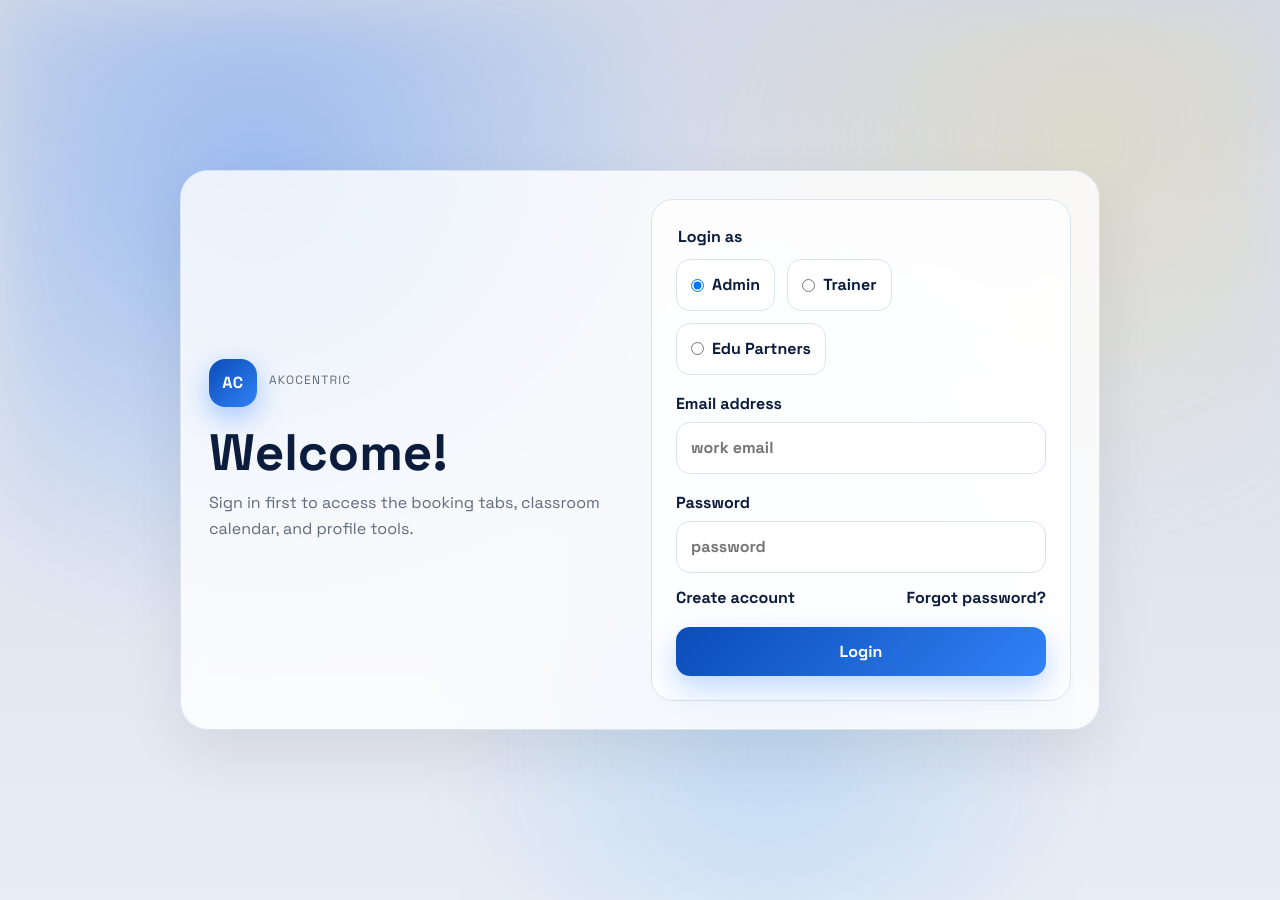
Scenario: requires login before showing tabs and reveals them after login
Check: the heading "Welcome!" is shown, box 209,420 -> 448,485
Check: the radio button labelled "Admin" is checked, box 691,279 -> 704,292
Type "alex.rivers@example.com" into the field labelled "Email address" at (861, 448), box 676,422 -> 1046,474
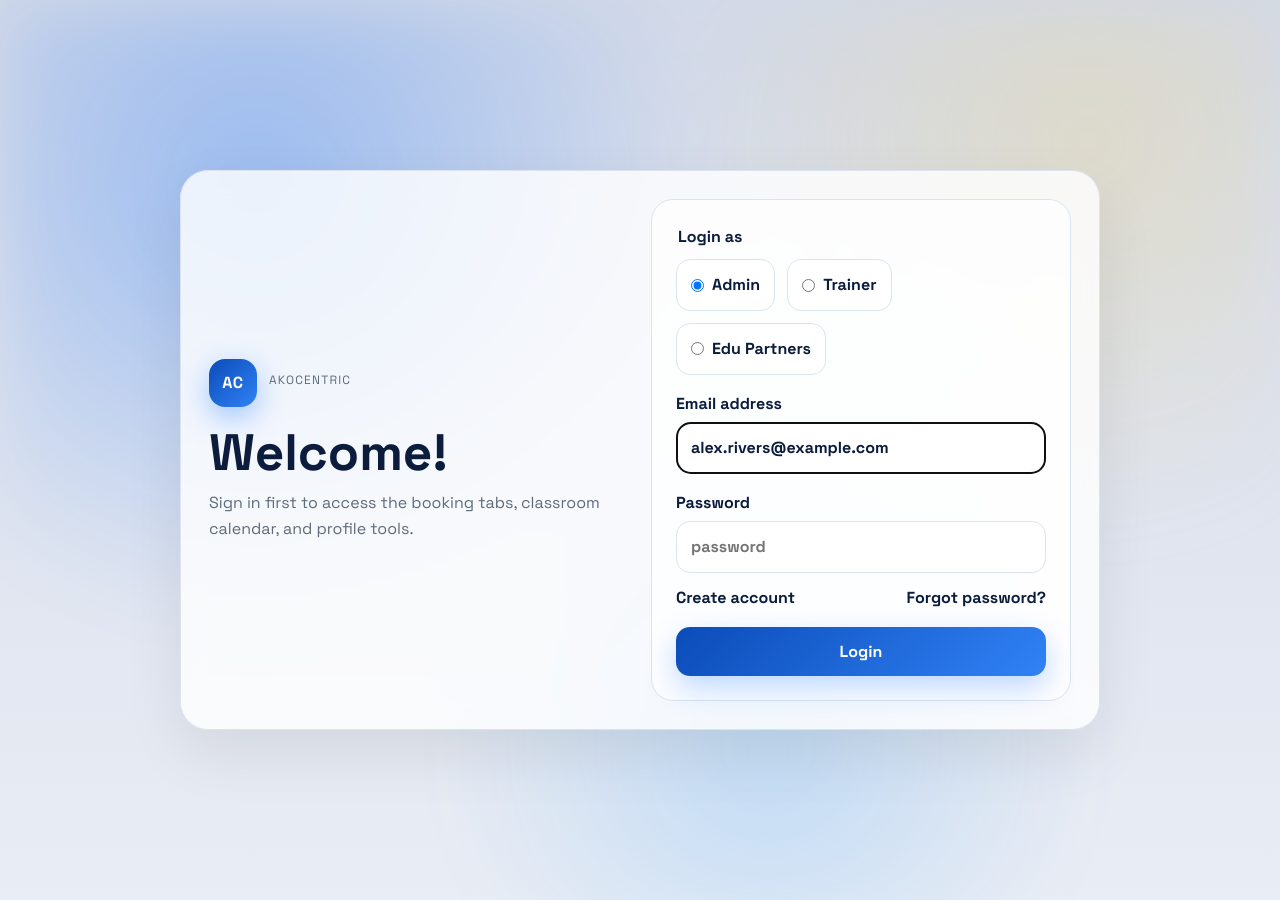
Type "password123" into the password field labelled "Password" at (861, 547), box 676,521 -> 1046,573
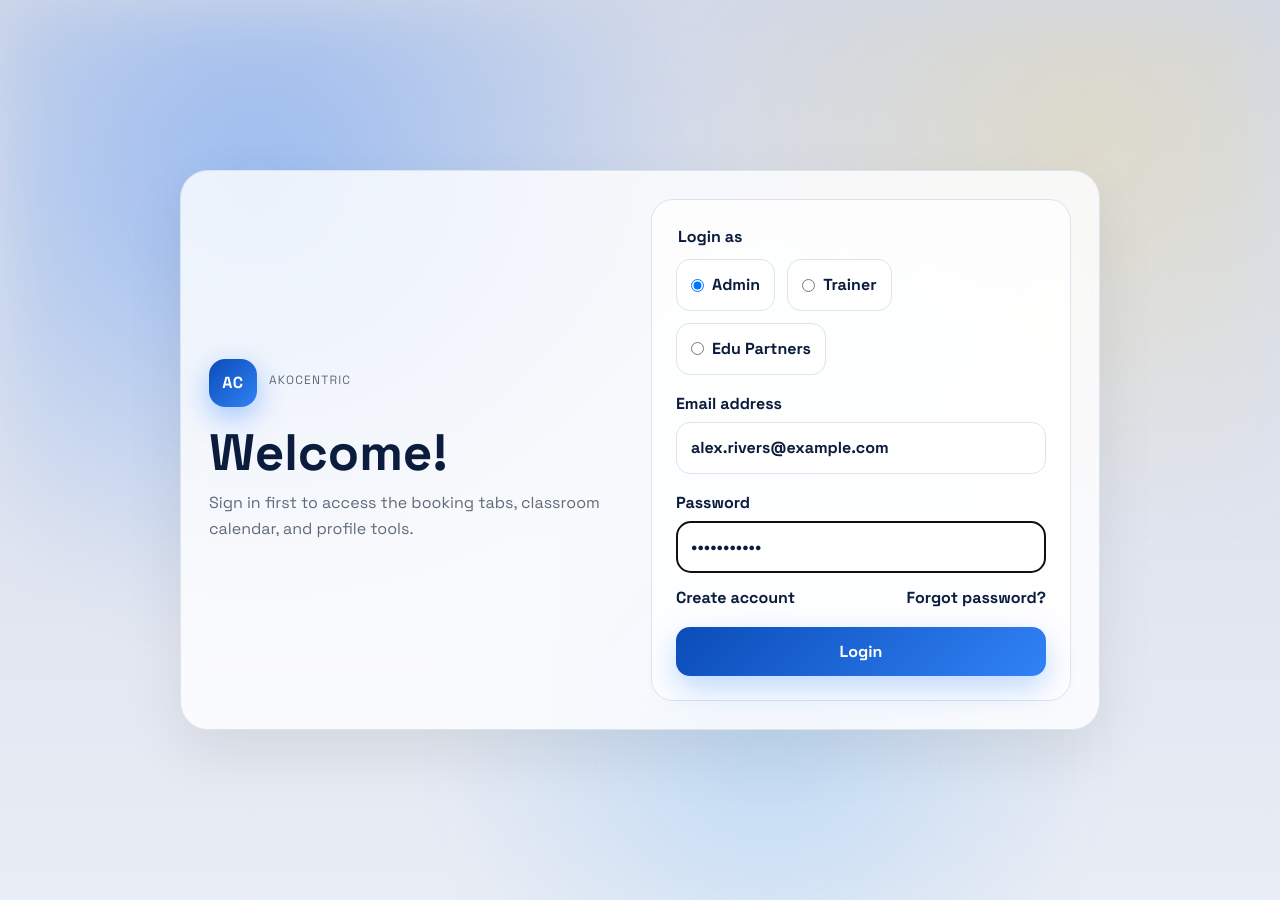
Click the button "Login" at (861, 651), box 676,627 -> 1046,676
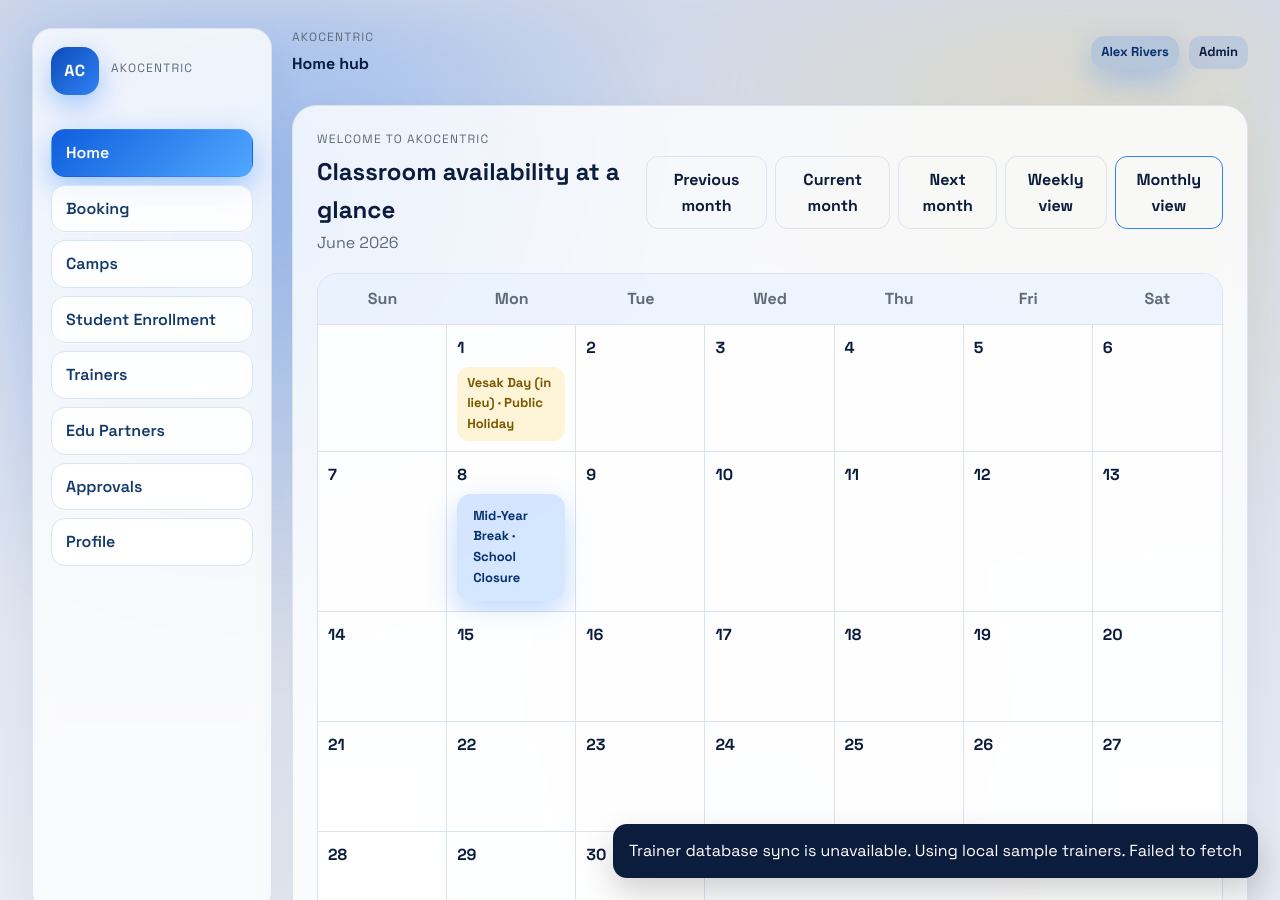
Check: the button "Home" is shown, box 51,129 -> 253,177
Check: the button "Camps" is shown, box 51,240 -> 253,288
Check: the button "Student Enrollment" is shown, box 51,296 -> 253,343
